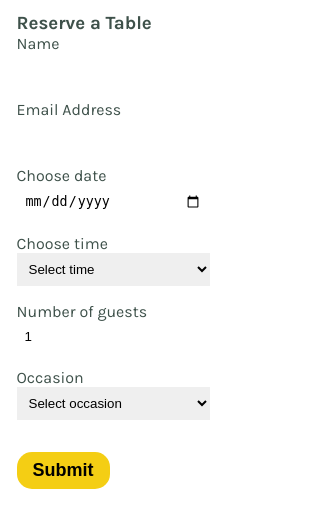
BookingForm validation behavior › shows guest count boundary errors
The image size is (320, 525).
Type "0" into the number field labelled "Number of guests" at (113, 337), box [16,321,210,352]
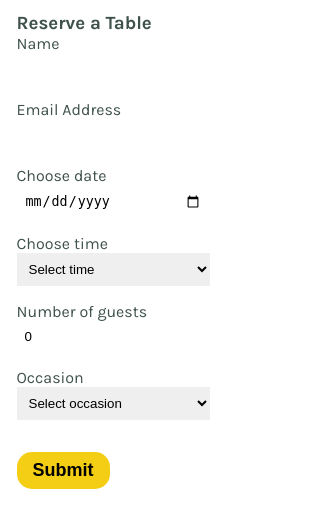
Leave the number field labelled "Number of guests", box [16,321,210,352]
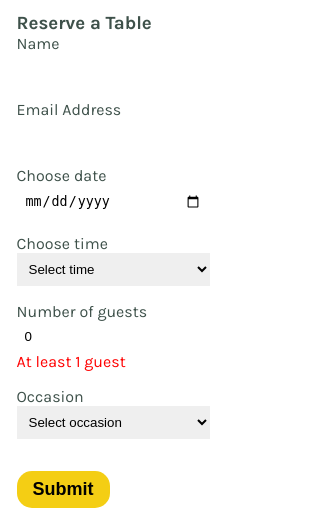
Result: the text "At least 1 guest" is shown at [16,352,126,371]
Replace the text in the number field labelled "Number of guests" with "11" at (113, 337), box [16,321,210,352]
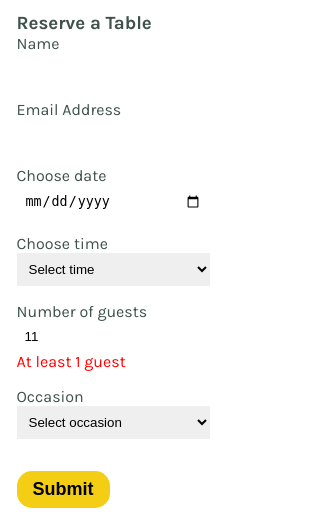
Leave the number field labelled "Number of guests", box [16,321,210,352]
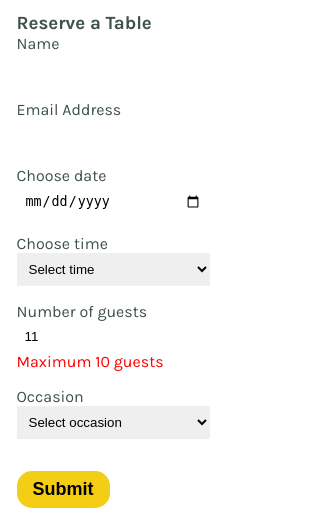
Result: the text "Maximum 10 guests" is shown at [16,352,164,371]
